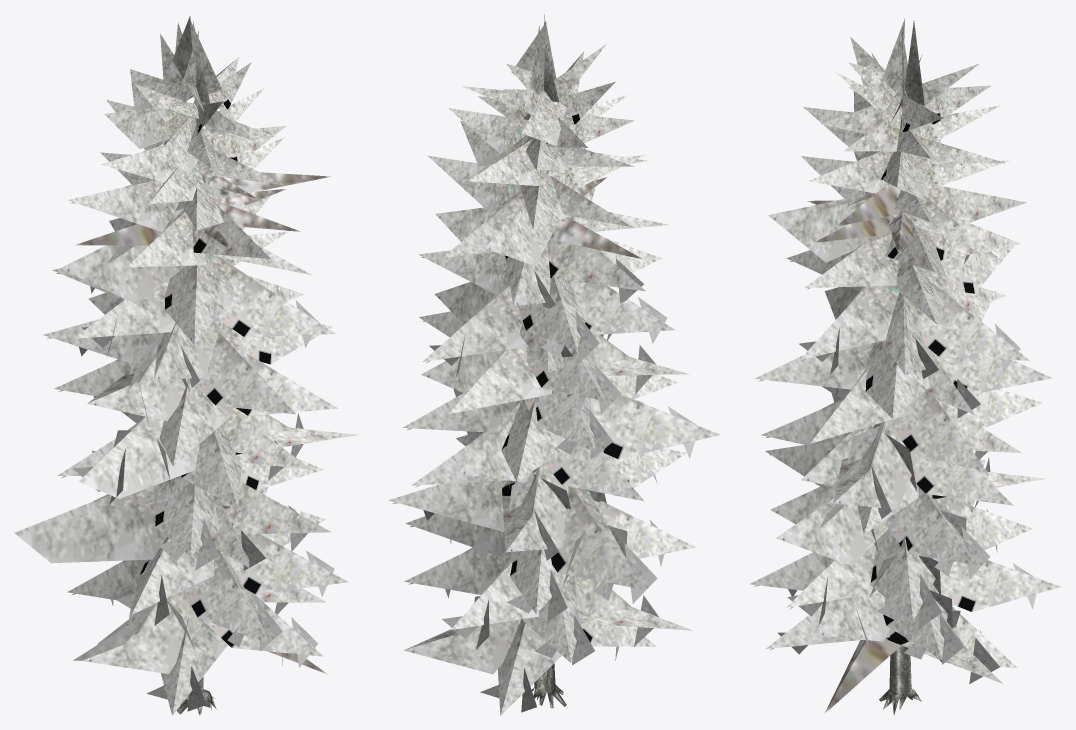
Rendered from arctic-pine-a-map.glb.
The picture shows the model from 3 angles, left to right: view 1: azimuth 30°, elevation 25°; view 2: azimuth 150°, elevation 25°; view 3: azimuth 270°, elevation 25°; orthographic projection.
Visible parts, largest first — view 1: pine_a_snow_LOD0; view 2: pine_a_snow_LOD0; view 3: pine_a_snow_LOD0.
Boxes of the visible parts, left/top/right/bottom form: pine_a_snow_LOD0: left=14, top=16, right=358, bottom=715; pine_a_snow_LOD0: left=388, top=14, right=720, bottom=715; pine_a_snow_LOD0: left=749, top=18, right=1061, bottom=715.
Bounding box in the file's own units: 19.48 × 45.9 × 18.66.
Materials: 1 (1 with a texture image).
